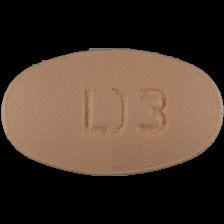68645-470: (0, 0, 224, 224)
